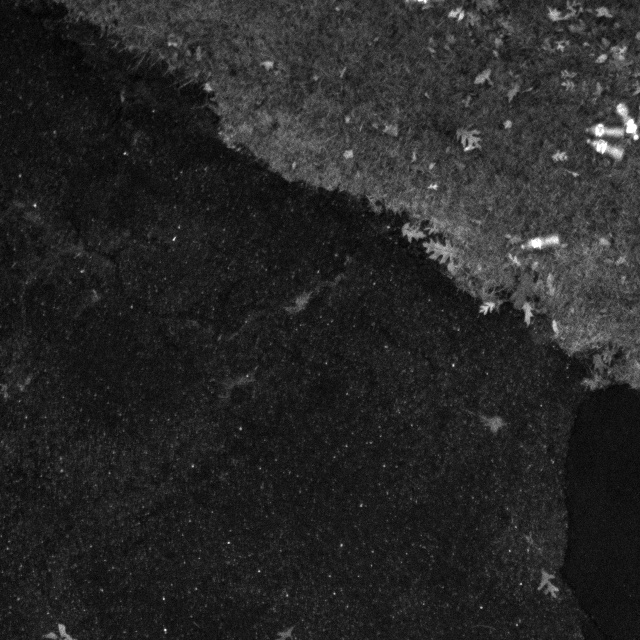bottle: (579, 132, 629, 172), (517, 220, 562, 261), (576, 118, 631, 146)
